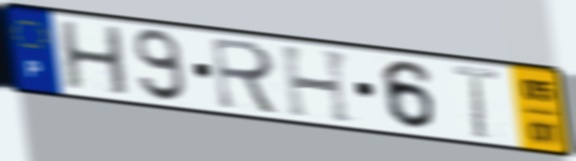6: (377, 58, 438, 132)
9: (130, 26, 191, 105)
H: (277, 43, 357, 127), (56, 18, 133, 98)
R: (208, 34, 284, 118)
T: (449, 62, 503, 142)
